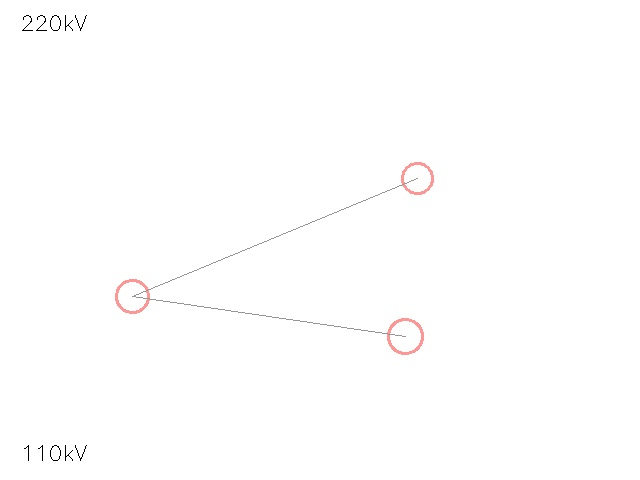fuse: (371, 302, 439, 370), (387, 148, 447, 208)
surge_arrester: (99, 263, 165, 329)
